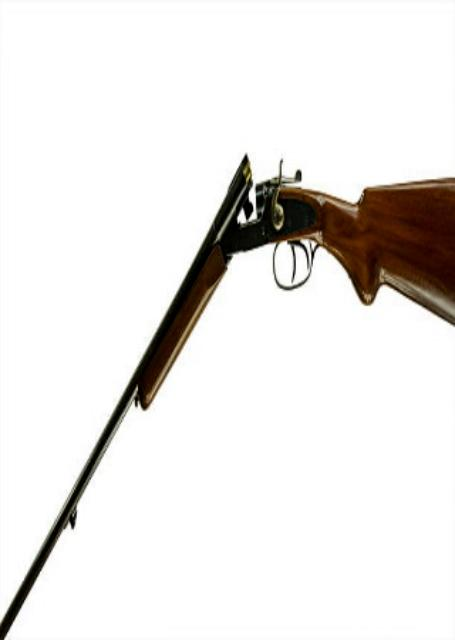rifle: (3, 152, 453, 614)
